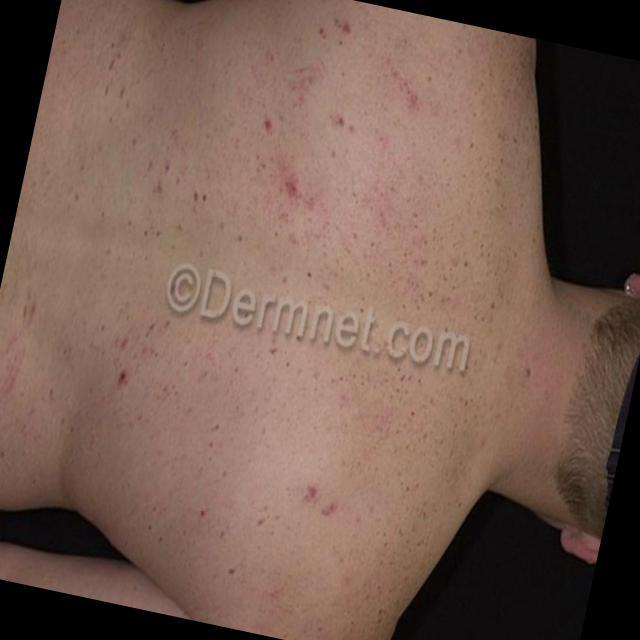Eczema: (35, 21, 480, 586)
